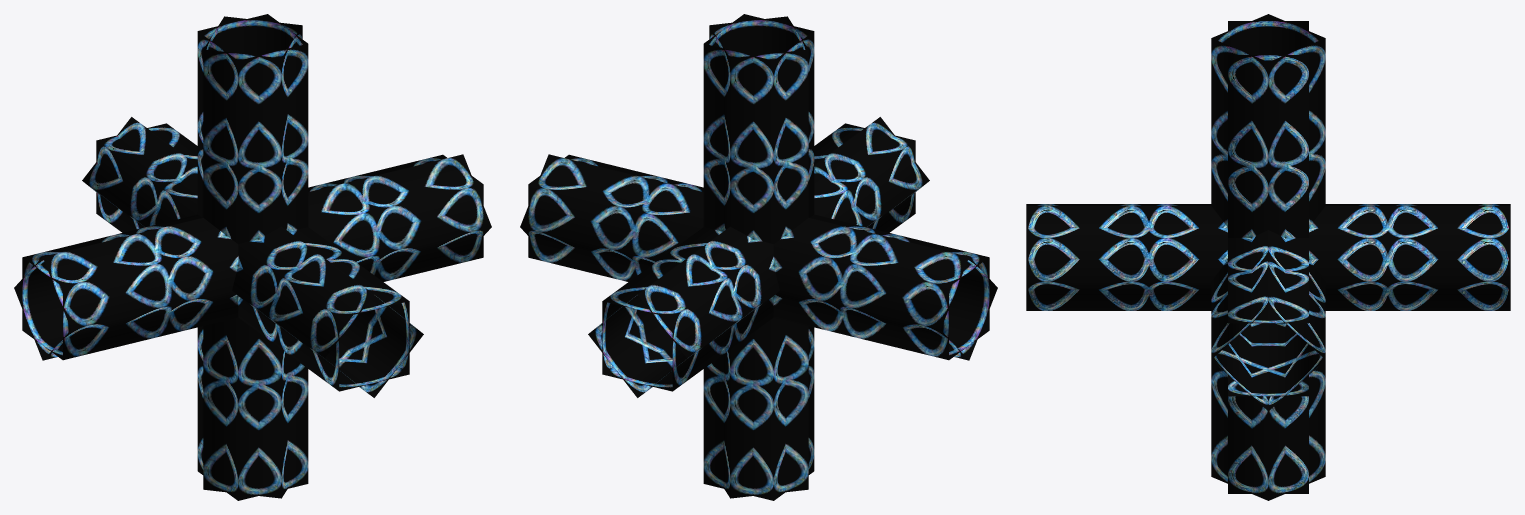
Rendered from StarTetrahemihexacron14.gltf.
The picture shows the model from 3 angles, left to right: view 1: azimuth 30°, elevation 25°; view 2: azimuth 150°, elevation 25°; view 3: azimuth 270°, elevation 25°; orthographic projection.
Parts seen in each view (by area): view 1: StarTetrahemihexacron; view 2: StarTetrahemihexacron; view 3: StarTetrahemihexacron.
Part boxes in pixels (<box>): StarTetrahemihexacron: <box>14,14,491,500</box>; StarTetrahemihexacron: <box>520,14,997,500</box>; StarTetrahemihexacron: <box>1026,14,1510,500</box>.
Bounding box in the file's own units: 6 × 6 × 6.
1 material, 1 textured.
